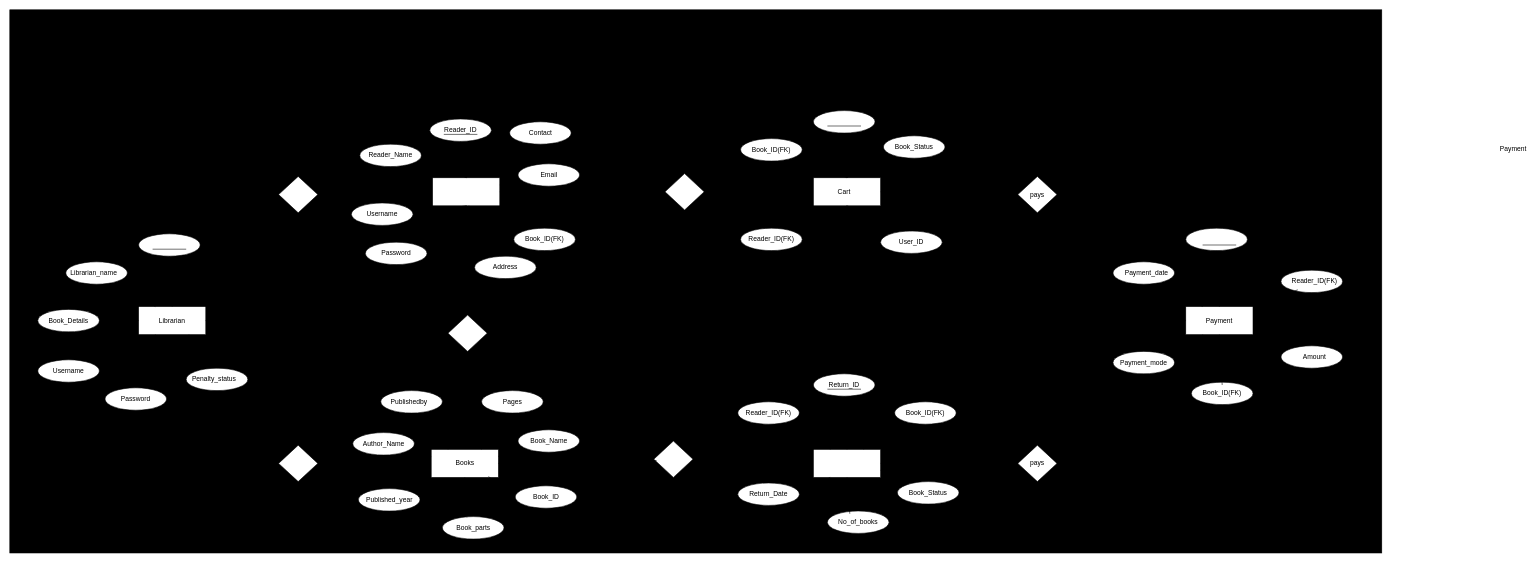
Some shapes in this 1540 by 563 pixel diagram are drawn without their labels. Each missing label, with the centre of its shape:
"borrows" belongs at point (467, 332).
"Cart_ID" belongs at point (844, 121).
"checkouts" belongs at point (684, 191).
"gives" belongs at point (298, 194).
"Librarian_ID" belongs at point (169, 244).
"Manages" belongs at point (298, 463).
"Penalty_ID" belongs at point (1216, 239).
"Readers" belongs at point (466, 191).
"Return" belongs at point (847, 463).
"should be" belongs at point (673, 458).
